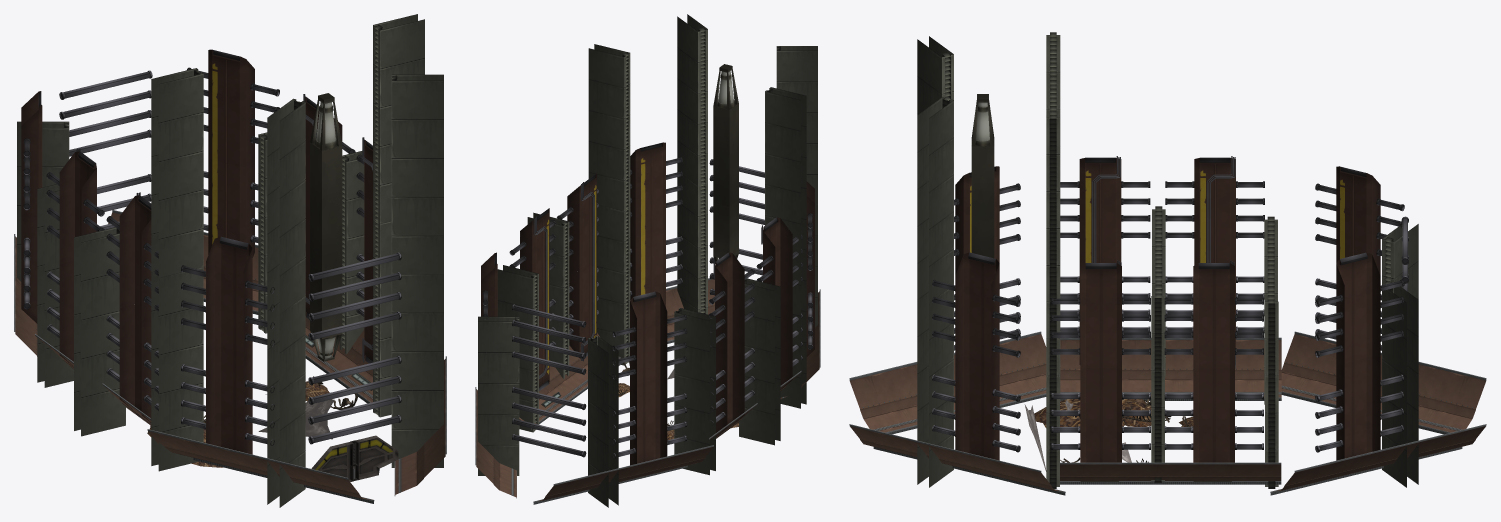
File: env_tar_sewers_rancor_pre.glb
3 renders of one model, left to right at view 1: azimuth 30°, elevation 25°; view 2: azimuth 150°, elevation 25°; view 3: azimuth 270°, elevation 25°, orthographic. The views are drawn at different scales.
Visible parts, largest first — view 1: tar_wall_03_mesh (×2), tar_wall_02b_mesh (1) (×2), tar_wall_03_mesh (2) (×2), tar_wall_03_mesh (6), tar_wall_03_mesh (3) (×2), tar_wall_03_mesh (5), tar_wall_03_mesh (1) (×2), tar_wall_02b_mesh (×2), tar_wall_03_mesh (4) (×2), tar_wall_04_mesh (×3), tar_wall_03_mesh (7), tar_light_01_mesh (1) (+19 smaller); view 2: tar_wall_03_mesh (×2), tar_wall_03_mesh (3) (×2), tar_wall_03_mesh (4) (×2), tar_wall_03_mesh (1) (×2), tar_wall_02b_mesh (3) (×2), tar_wall_03_mesh (2) (×2), tar_wall_03_mesh (7), tar_wall_02b_mesh (2) (×2), tar_wall_03_mesh (5), tar_wall_03_mesh (6), tar_light_01_mesh (1), tar_wall_02a_mesh (7) (+16 smaller); view 3: tar_wall_04_mesh (×3), tar_wall_03_mesh (×2), tar_wall_04_mesh (2) (×2), tar_wall_02b_mesh (3) (×2), tar_wall_02b_mesh (1) (×2), tar_wall_04_mesh (1), tar_wall_03_mesh (6), tar_wall_02a_mesh (7), tar_wall_02a_mesh (5), tar_wall_02a_mesh (9), tar_wall_02a_mesh (3), tar_wall_02a_mesh (4) (+12 smaller).
Part boxes in pixels (x1,y1,x2,y2): tar_wall_03_mesh (×2): (267,274,443,507); tar_wall_02b_mesh (1) (×2): (181,49,279,361); tar_wall_03_mesh (2) (×2): (151,219,391,471); tar_wall_03_mesh (6): (391,74,443,274); tar_wall_03_mesh (3) (×2): (74,132,267,436); tar_wall_03_mesh (5): (151,68,203,277); tar_wall_03_mesh (1) (×2): (17,98,305,314); tar_wall_02b_mesh (×2): (181,158,274,454); tar_wall_03_mesh (4) (×2): (37,151,364,387); tar_wall_04_mesh (×3): (108,210,446,503); tar_wall_03_mesh (7): (373,14,424,223); tar_light_01_mesh (1): (310,93,342,271); tar_wall_03_mesh (×2): (478,171,707,475); tar_wall_03_mesh (3) (×2): (497,265,780,445); tar_wall_03_mesh (4) (×2): (527,212,715,475); tar_wall_03_mesh (1) (×2): (588,46,817,507); tar_wall_02b_mesh (3) (×2): (612,142,687,391); tar_wall_03_mesh (2) (×2): (597,205,806,408); tar_wall_03_mesh (7): (588,44,630,211); tar_wall_02b_mesh (2) (×2): (612,229,687,465); tar_wall_03_mesh (5): (765,87,806,254); tar_wall_03_mesh (6): (677,14,707,186); tar_light_01_mesh (1): (713,64,738,207); tar_wall_02a_mesh (7): (709,252,755,354); tar_wall_04_mesh (×3): (849,331,1486,495); tar_wall_03_mesh (×2): (917,282,1418,487); tar_wall_04_mesh (2) (×2): (1060,337,1281,484); tar_wall_02b_mesh (3) (×2): (932,166,1404,371); tar_wall_02b_mesh (1) (×2): (954,166,1404,372); tar_wall_04_mesh (1): (1281,331,1486,434); tar_wall_03_mesh (6): (917,97,953,302); tar_wall_02a_mesh (7): (1165,156,1264,262); tar_wall_02a_mesh (5): (1051,260,1150,368); tar_wall_02a_mesh (9): (1164,260,1263,369); tar_wall_02a_mesh (3): (1060,156,1150,262); tar_wall_02a_mesh (4): (1051,368,1150,462).
Size of the model in its own units: 36.86 by 45.27 by 68.7.
Materials: 8 (8 with a texture image).
